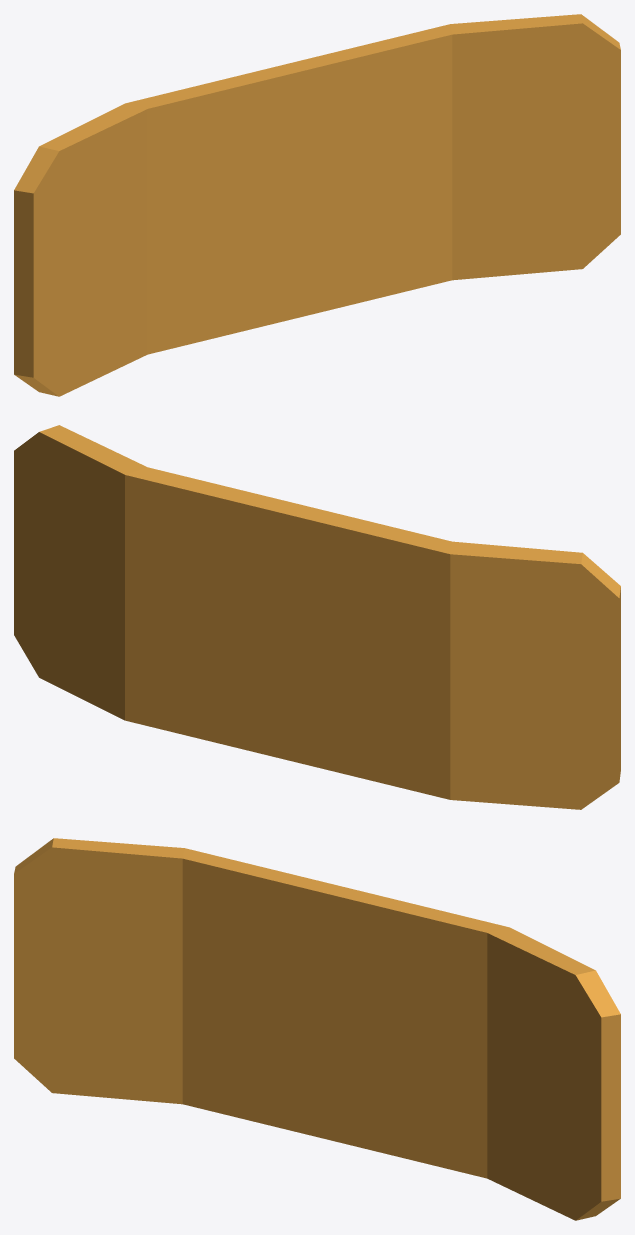
The model's file is scifi-scifi-pc.glb.
The picture shows the model from 3 angles, top to bottom: view 1: azimuth 30°, elevation 25°; view 2: azimuth 150°, elevation 25°; view 3: azimuth 330°, elevation 25°; orthographic projection.
Parts seen in each view (by area): view 1: scifi-pc; view 2: scifi-pc; view 3: scifi-pc.
Boxes of the visible parts, bbox=[...] form: scifi-pc: bbox=[14, 14, 620, 396]; scifi-pc: bbox=[14, 425, 620, 809]; scifi-pc: bbox=[14, 838, 620, 1220].
Size of the model in its own units: 1.3 by 0.5047 by 0.1473.
